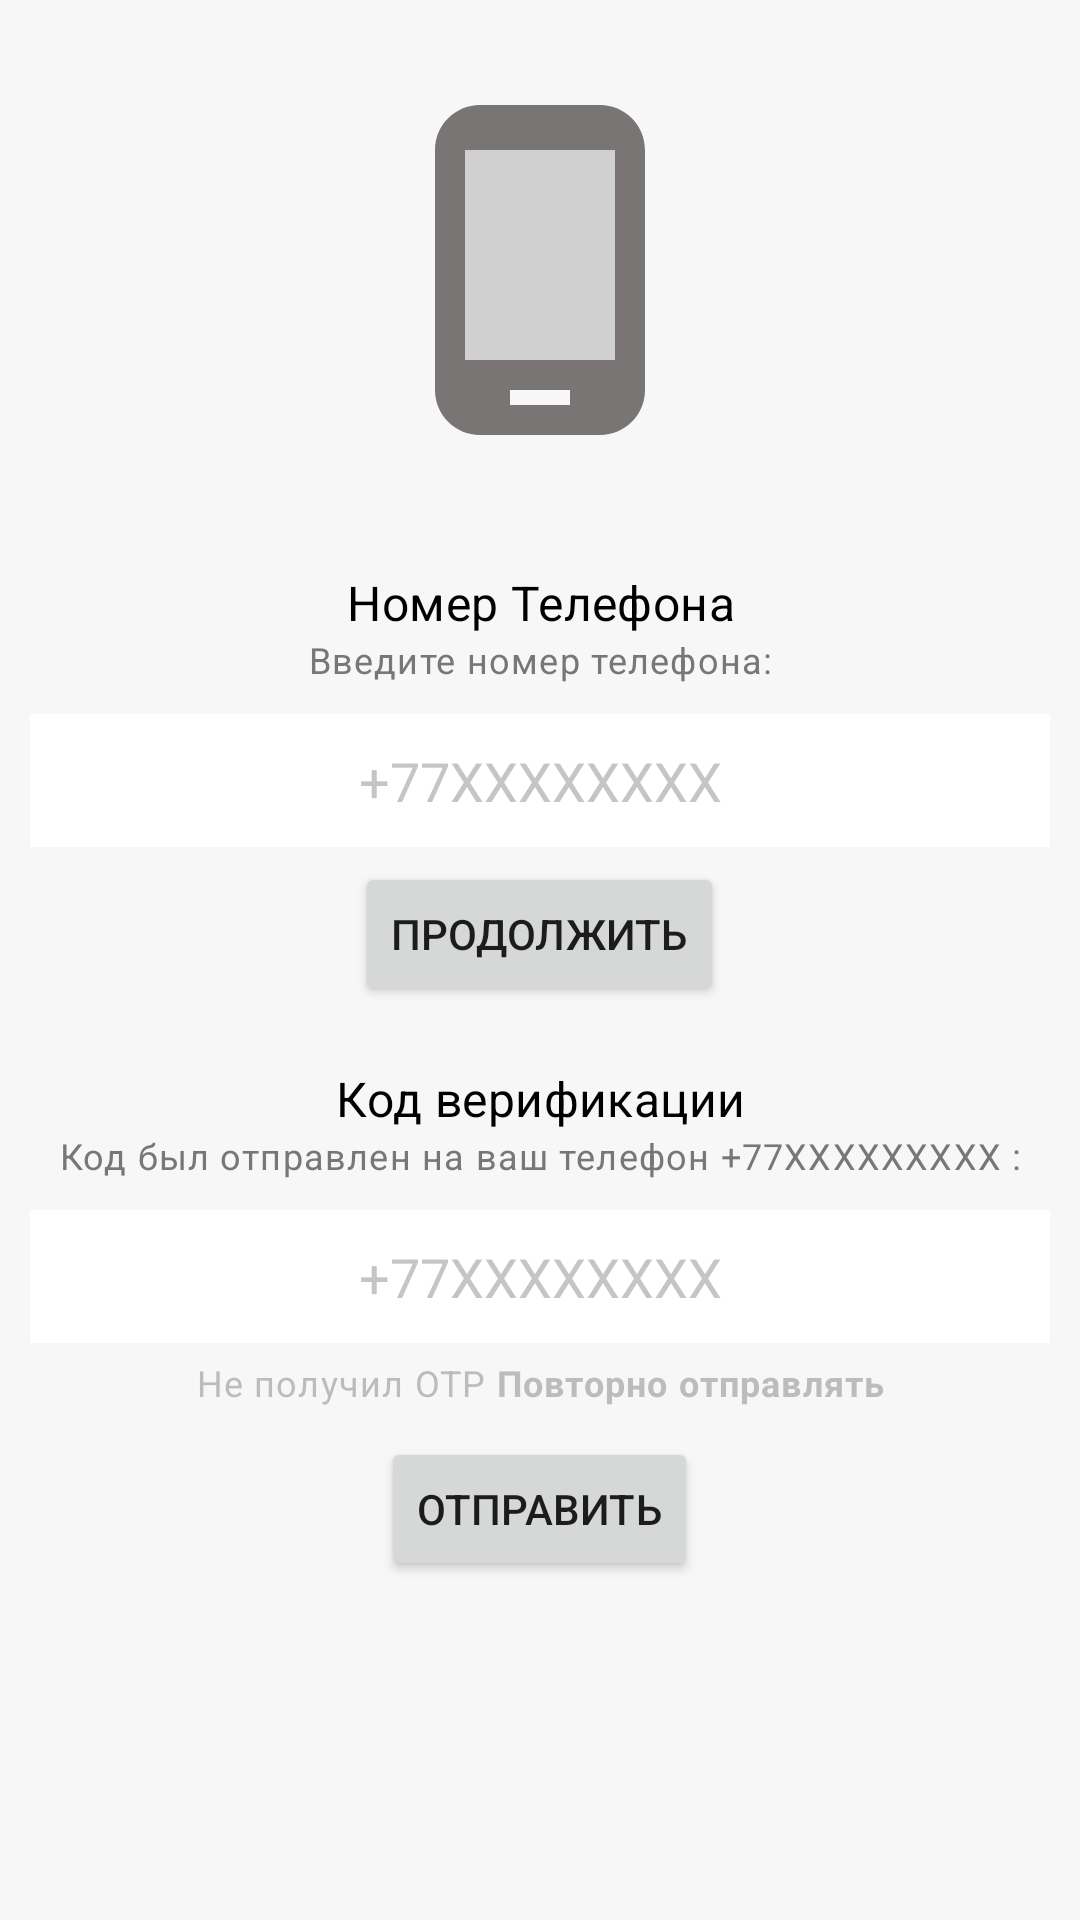

Named icons in this screenshot (1080 x 1920) and their bounding boxes, (x1, y1, x2, y2):
phone android: (435, 105, 645, 435)
